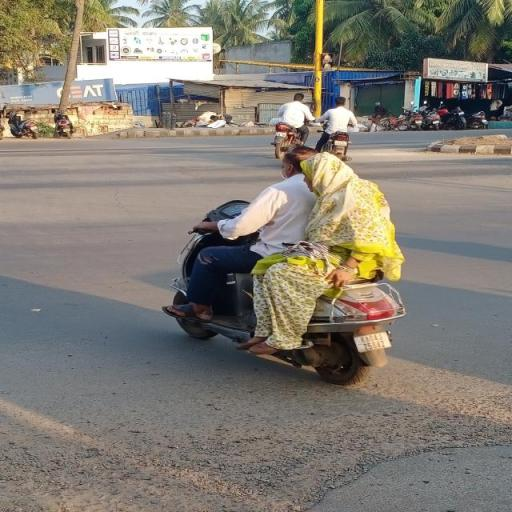bike: (163, 142, 414, 388)
numberplate: (353, 325, 395, 355)
withouthelmet: (302, 154, 344, 190), (282, 149, 311, 177)
